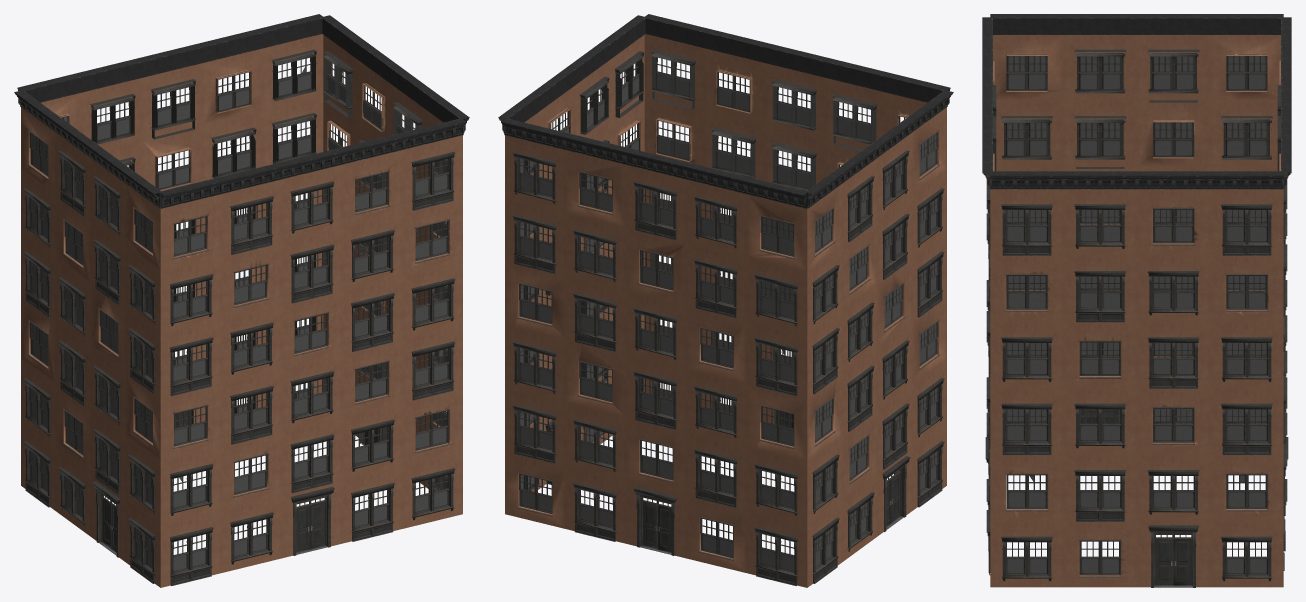
Rendered from alley-apartments.glb.
The picture shows the model from 3 angles, left to right: view 1: azimuth 30°, elevation 25°; view 2: azimuth 150°, elevation 25°; view 3: azimuth 270°, elevation 25°; orthographic projection. The views are drawn at different scales.
Parts seen in each view (by area): view 1: wall_window_centered_large_01, window_centered_large_01, crown_standard_standard_01, window_centered_large_03; view 2: wall_window_centered_large_01, window_centered_large_01, crown_standard_standard_01, window_centered_large_03; view 3: wall_window_centered_large_01, window_centered_large_01, crown_standard_standard_01, window_centered_large_03.
Part boxes in pixels (bbox=[...]): wall_window_centered_large_01: bbox=[21, 34, 462, 587]; window_centered_large_01: bbox=[23, 49, 455, 585]; crown_standard_standard_01: bbox=[14, 14, 469, 208]; window_centered_large_03: bbox=[28, 82, 450, 497]; wall_window_centered_large_01: bbox=[505, 34, 946, 587]; window_centered_large_01: bbox=[512, 49, 944, 585]; crown_standard_standard_01: bbox=[498, 14, 953, 208]; window_centered_large_03: bbox=[517, 130, 939, 560]; wall_window_centered_large_01: bbox=[990, 35, 1283, 587]; window_centered_large_01: bbox=[985, 49, 1288, 587]; crown_standard_standard_01: bbox=[982, 14, 1291, 189]; window_centered_large_03: bbox=[989, 120, 1284, 577].
Bounding box in the file's own units: 15.66 × 18.75 × 12.66.
Materials: 5 (5 with a texture image).
